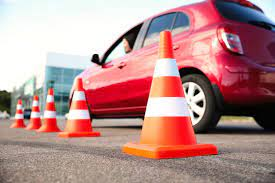car: (69, 1, 275, 135)
cone: (122, 31, 218, 159), (57, 78, 101, 137), (37, 88, 63, 133), (26, 95, 44, 130), (10, 99, 27, 128)
